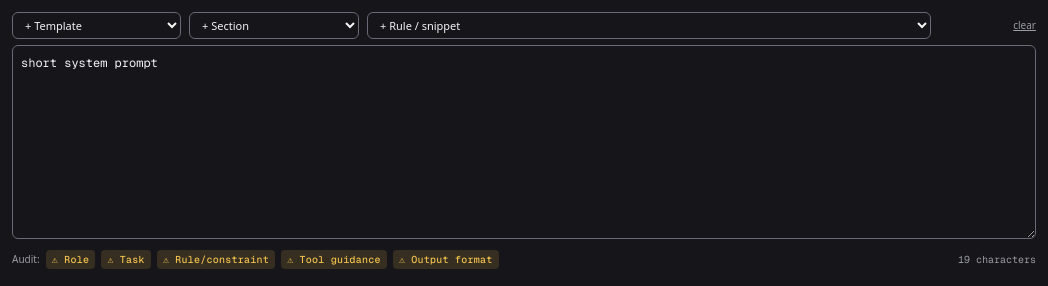
PromptEditor clear (short text) › typing new text after a clear dismisses the undo affordance
The image size is (1048, 286).
Click the button "clear": (1025, 26) [1013, 18, 1036, 33]
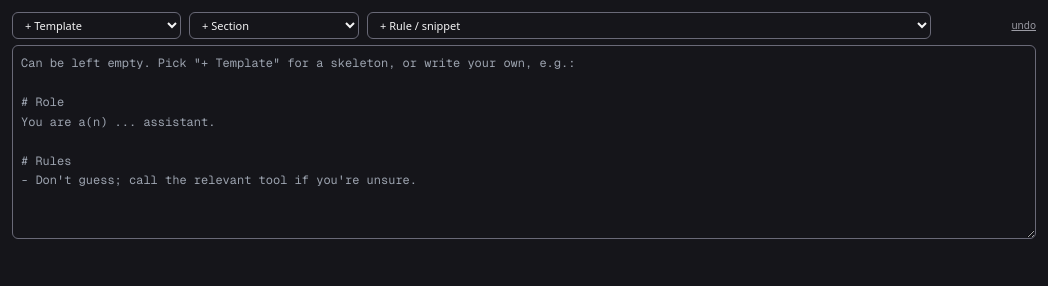
Result: the button "undo" is shown at [1011, 18, 1036, 33]
Replace the text in the text box with placeholder "Can be left empty" with "new draft": (524, 142) [12, 45, 1036, 238]
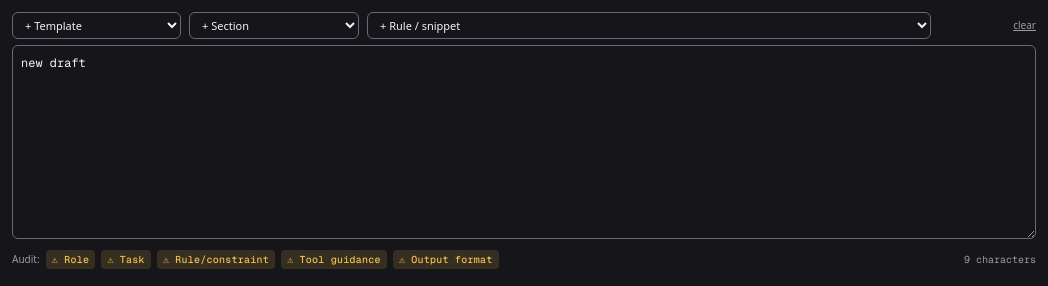
Result: the button "undo" is gone
Result: the button "clear" is shown at [1013, 18, 1036, 33]
